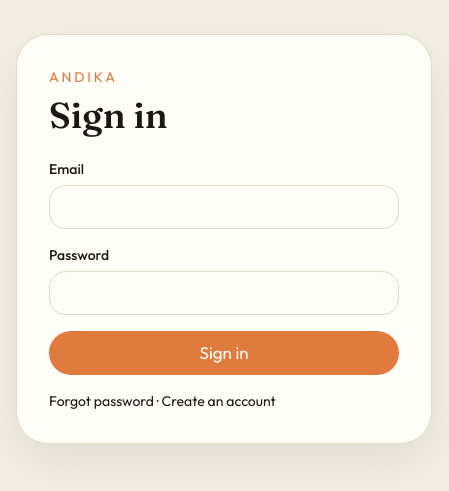
Scenario: authentication screens › shows the backend login error and does not navigate
Type "ada@example.com" into the field labelled "Email".
click(224, 206); type("ada@example.com")  # box [49,184,399,228]
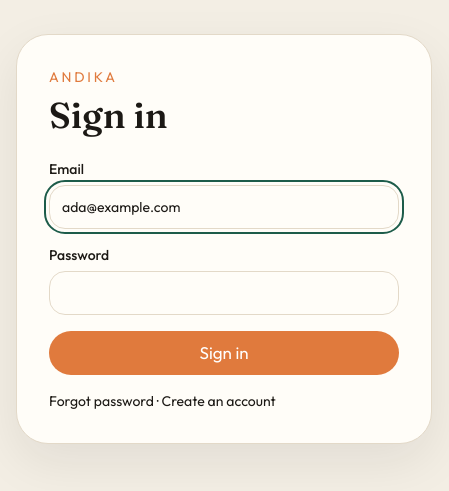
Type "ReaderPass123" into the password field labelled "Password".
click(224, 292); type("ReaderPass123")  # box [49,270,399,314]
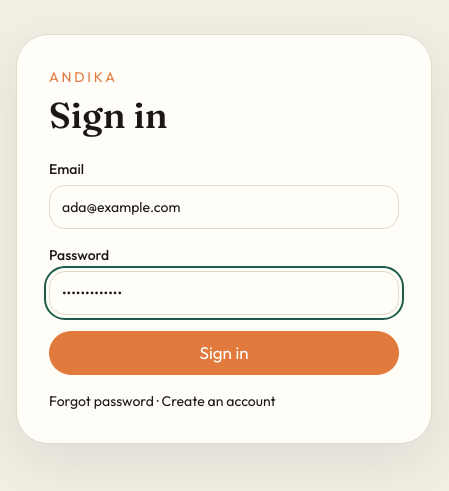
Click the button "Sign in".
click(224, 352)  # box [49,330,399,374]
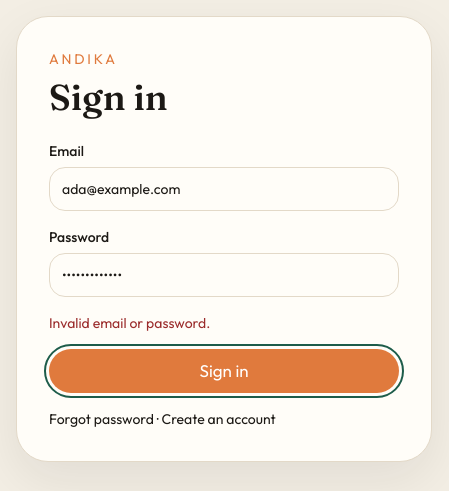
Result: the message shows "Invalid email or password" at [49,314,210,332]
